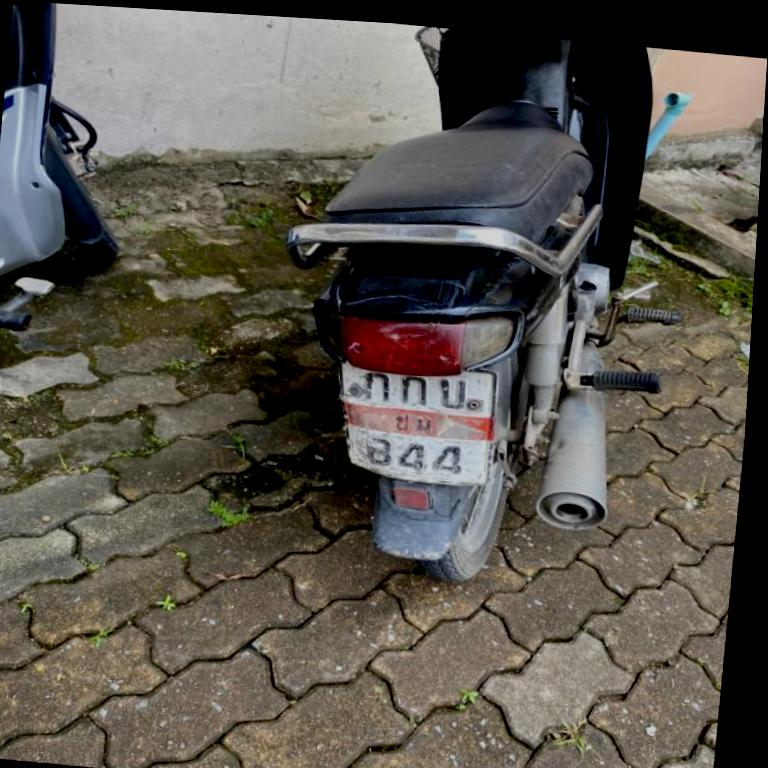license plate: (325, 348, 514, 499)
